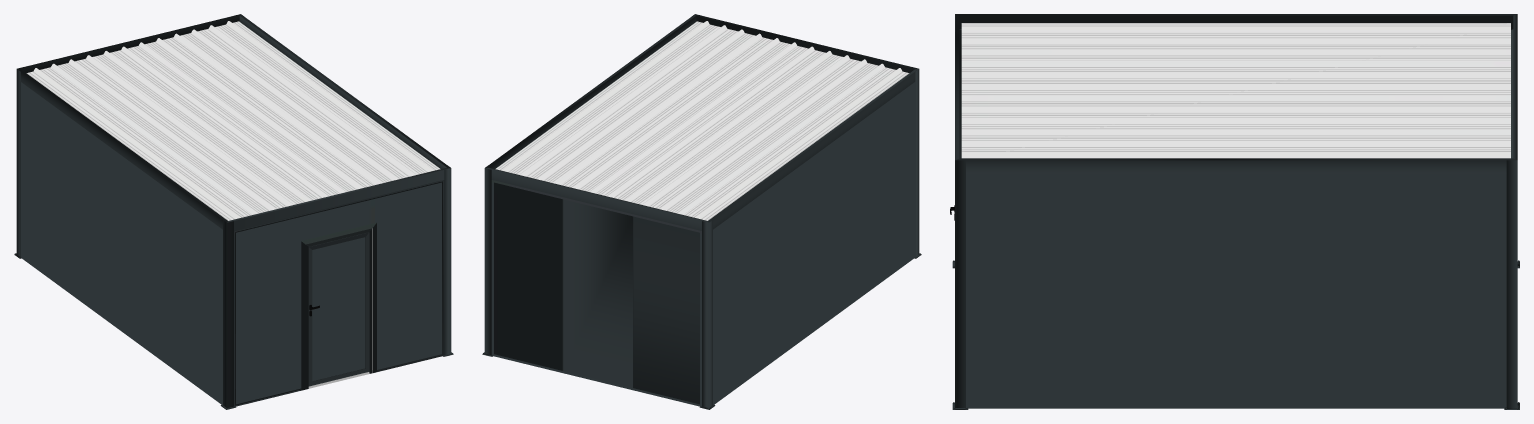
3 renders of one model, left to right at view 1: azimuth 30°, elevation 25°; view 2: azimuth 150°, elevation 25°; view 3: azimuth 270°, elevation 25°, orthographic. The views are drawn at different scales.
Parts seen in each view (by area): view 1: priximbattable_net_abris_de_jardin_13437_abris_de_jardin_toi, folha, porta; view 2: priximbattable_net_abris_de_jardin_13437_abris_de_jardin_toi; view 3: priximbattable_net_abris_de_jardin_13437_abris_de_jardin_toi.
Part boxes in pixels (x1,y1,x2,y2): priximbattable_net_abris_de_jardin_13437_abris_de_jardin_toi: [14, 14, 453, 409]; folha: [308, 232, 369, 386]; porta: [301, 222, 376, 390]; priximbattable_net_abris_de_jardin_13437_abris_de_jardin_toi: [482, 14, 921, 409]; priximbattable_net_abris_de_jardin_13437_abris_de_jardin_toi: [952, 14, 1519, 409].
Size of the model in its own units: 324 by 254 by 527.
1 material, 1 textured.
